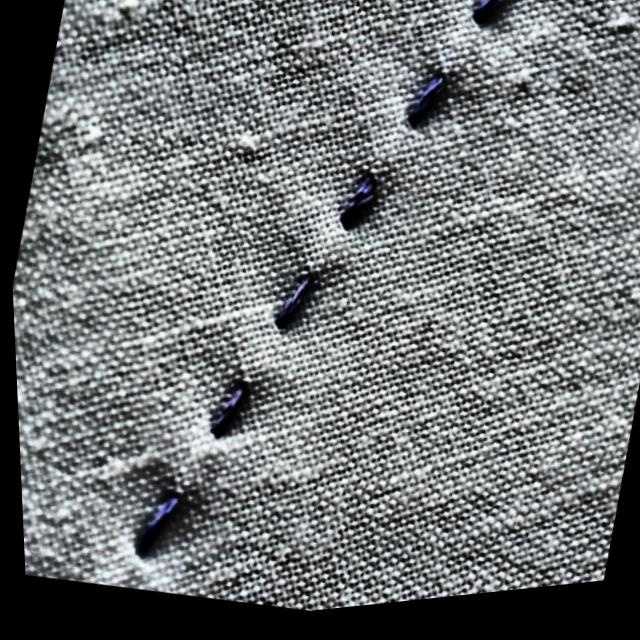Hole: (321, 163, 396, 248)
